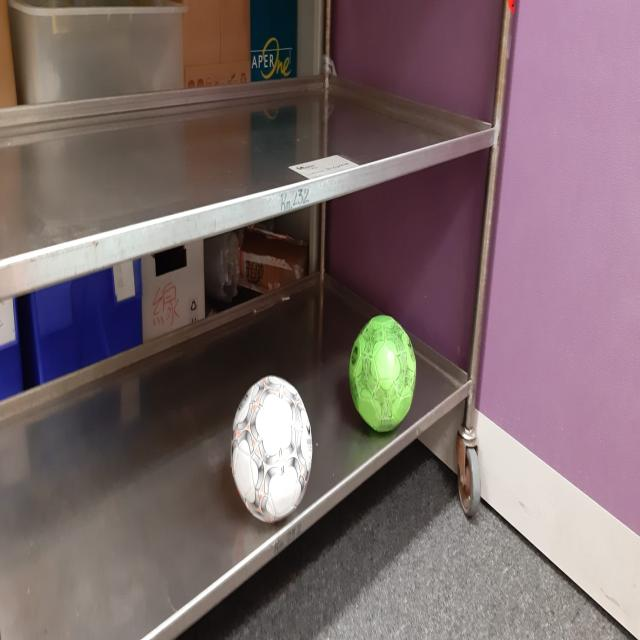ball: (231, 374, 313, 527), (350, 312, 416, 434)
